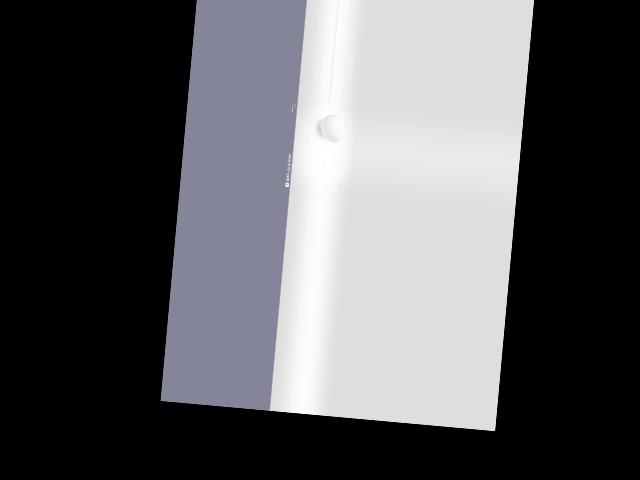egg: (318, 113, 346, 142)
